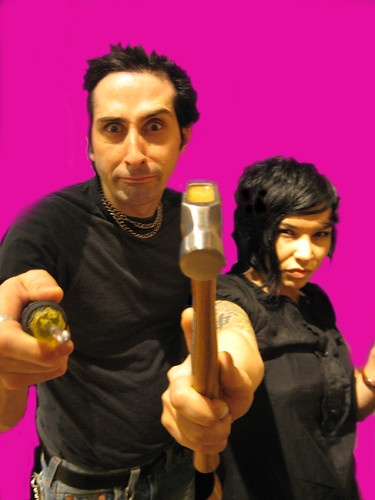hammer: (176, 179, 227, 474)
